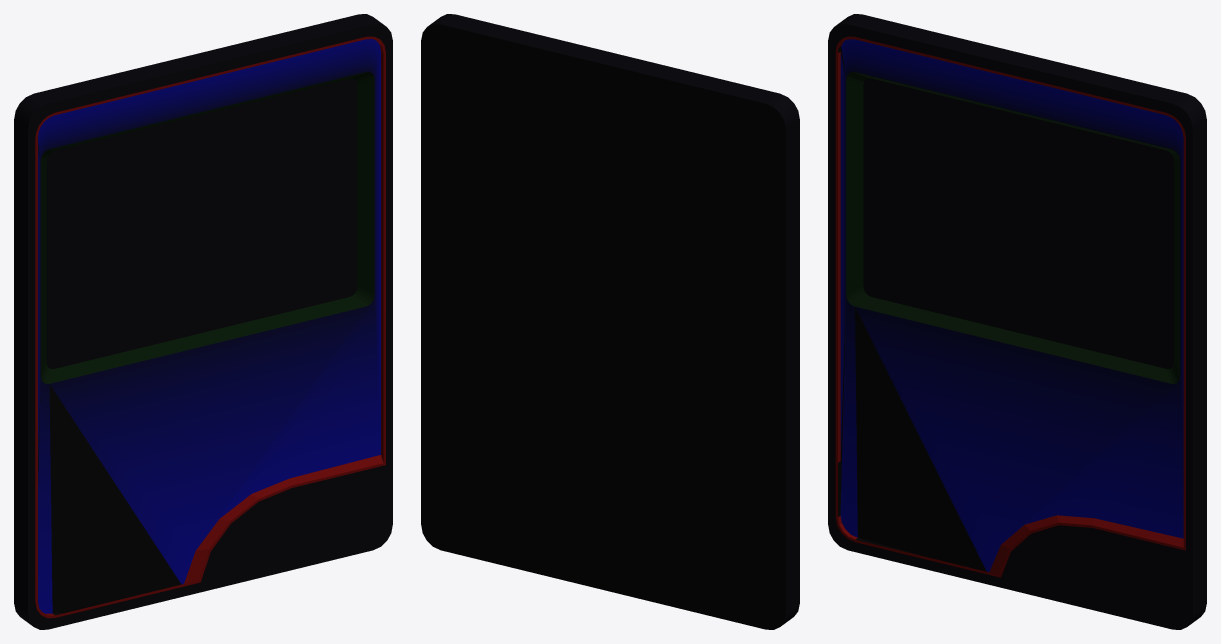
The model's file is roleCard.fbx.
3 views of the same model, side by side, from view 1: azimuth 30°, elevation 25°; view 2: azimuth 150°, elevation 25°; view 3: azimuth 330°, elevation 25° (orthographic).
Parts seen in each view (by area): view 1: svgMesh3; view 2: svgMesh3; view 3: svgMesh3.
Part boxes in pixels (x1,y1,x2,y2): svgMesh3: (14,14,392,629); svgMesh3: (421,14,799,629); svgMesh3: (828,14,1206,629).
Size of the model in its own units: 7.26 by 10 by 0.4801.
